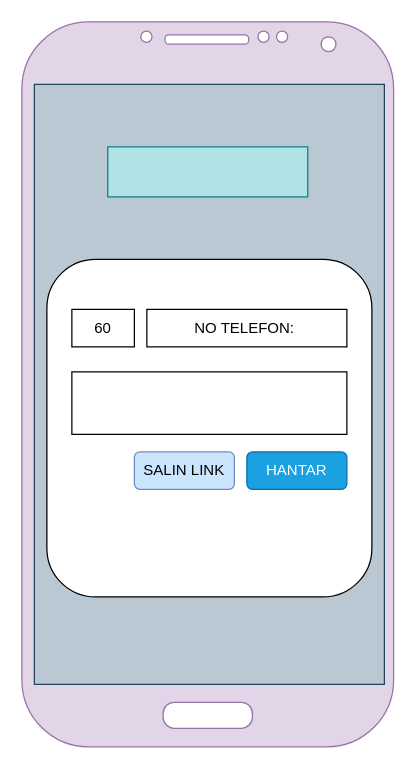
Image size: 416x769. Some labels were removed from this diagram. The shapes that lost their labels are listed below. From the top down, each one's centre as x and y in pixels, then its label:
At (x=207, y=171): "WA.ME".
At (x=209, y=402): "MESEJ".
